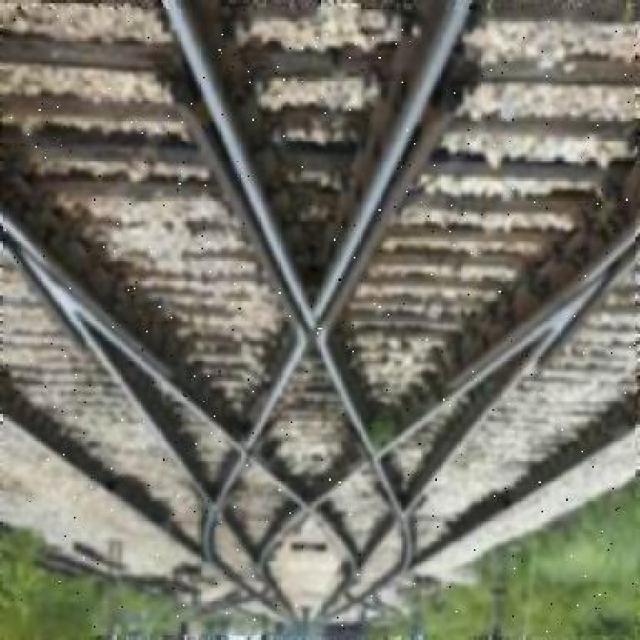rail: (5, 9, 634, 633)
